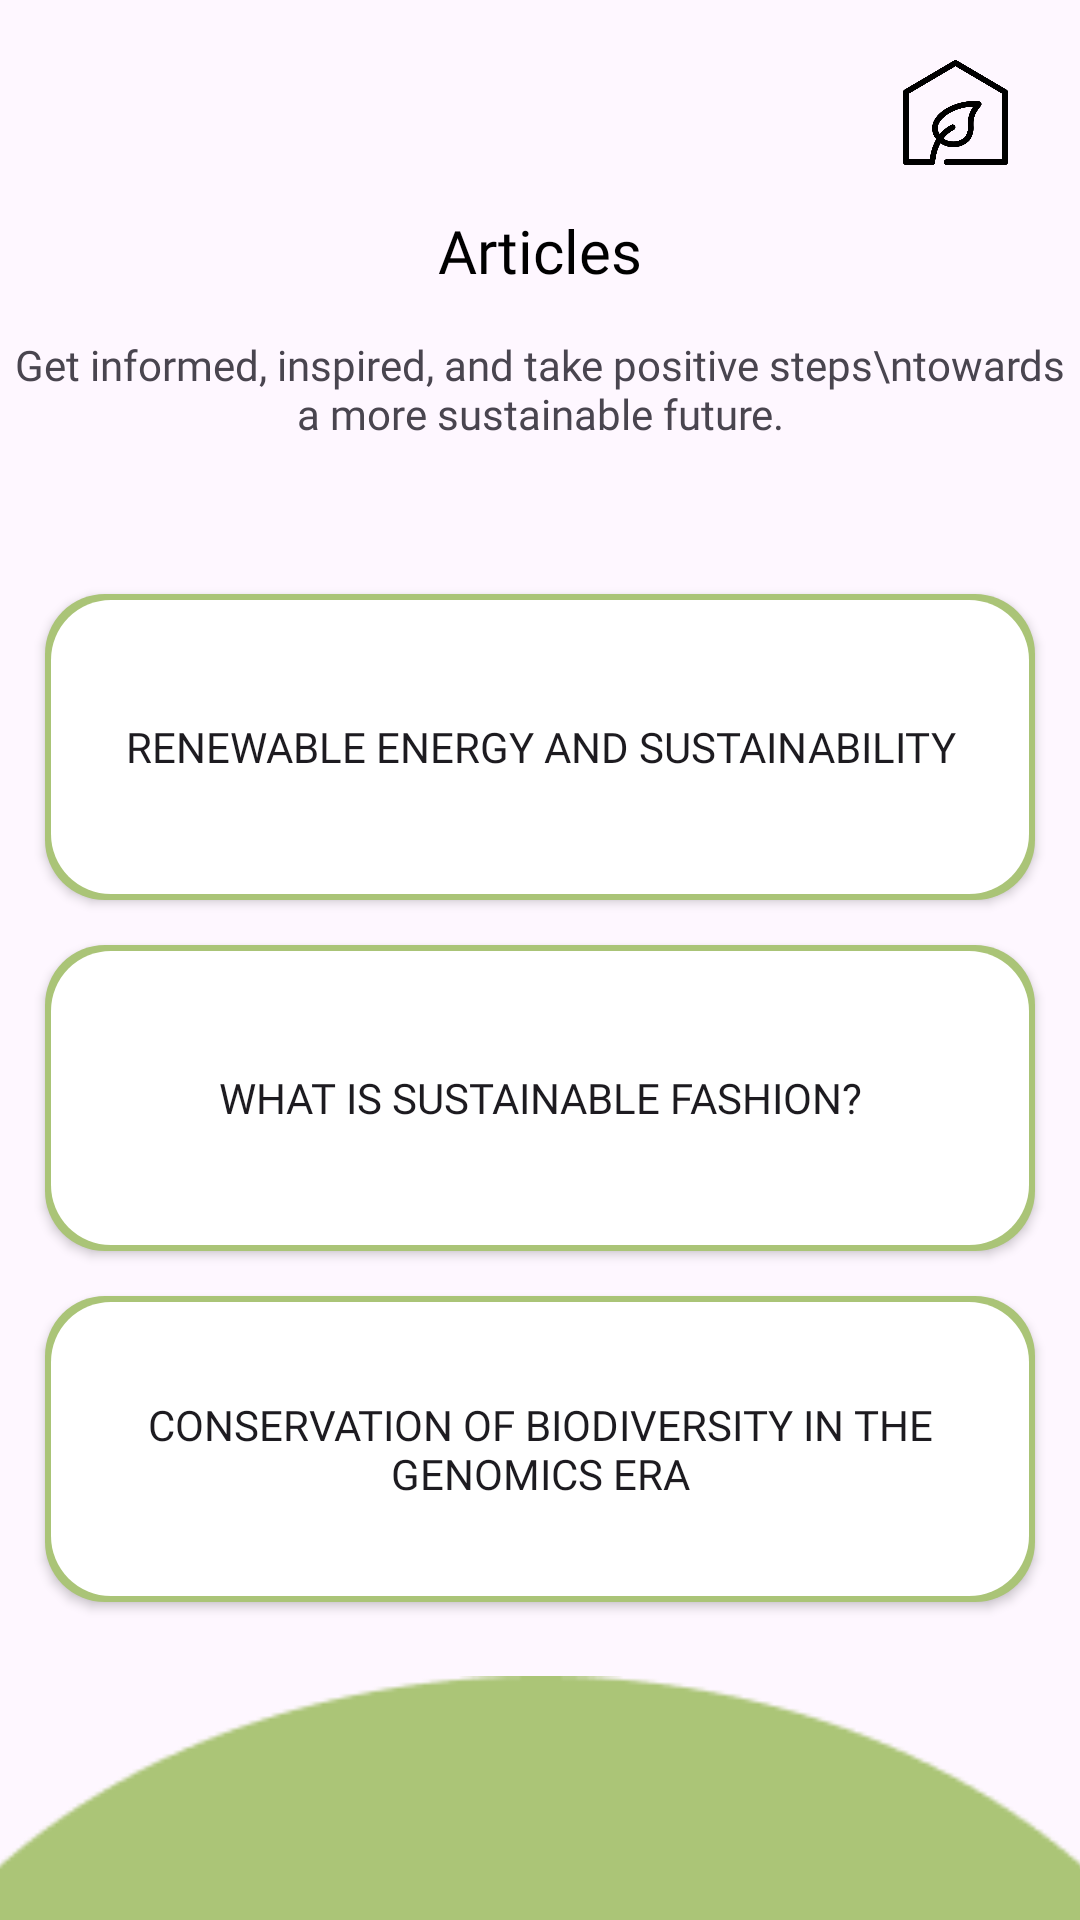

Screen size 1080px x 1920px. Icon name, then its box in pixels as bbox=[x1, y1, x2, y2]:
greenhouse: bbox=[903, 60, 1008, 165]
